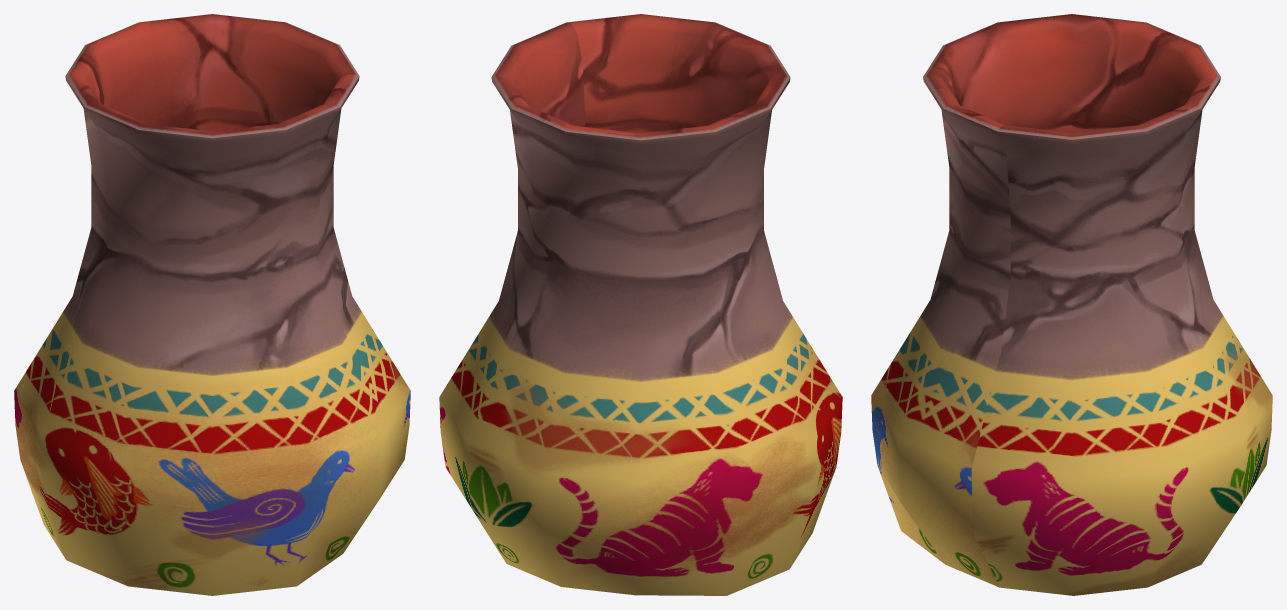
The model's file is Market_pottery1.fbx.
The picture shows the model from 3 angles, left to right: view 1: azimuth 30°, elevation 25°; view 2: azimuth 150°, elevation 25°; view 3: azimuth 270°, elevation 25°; orthographic projection.
Visible parts, largest first — view 1: Market_pottery1; view 2: Market_pottery1; view 3: Market_pottery1.
Boxes of the visible parts, x1,y1,x2,y2 form: Market_pottery1: (14, 14, 410, 595); Market_pottery1: (439, 14, 842, 595); Market_pottery1: (871, 14, 1272, 595).
Bounding box in the file's own units: 0.4181 × 0.5237 × 0.4181.
